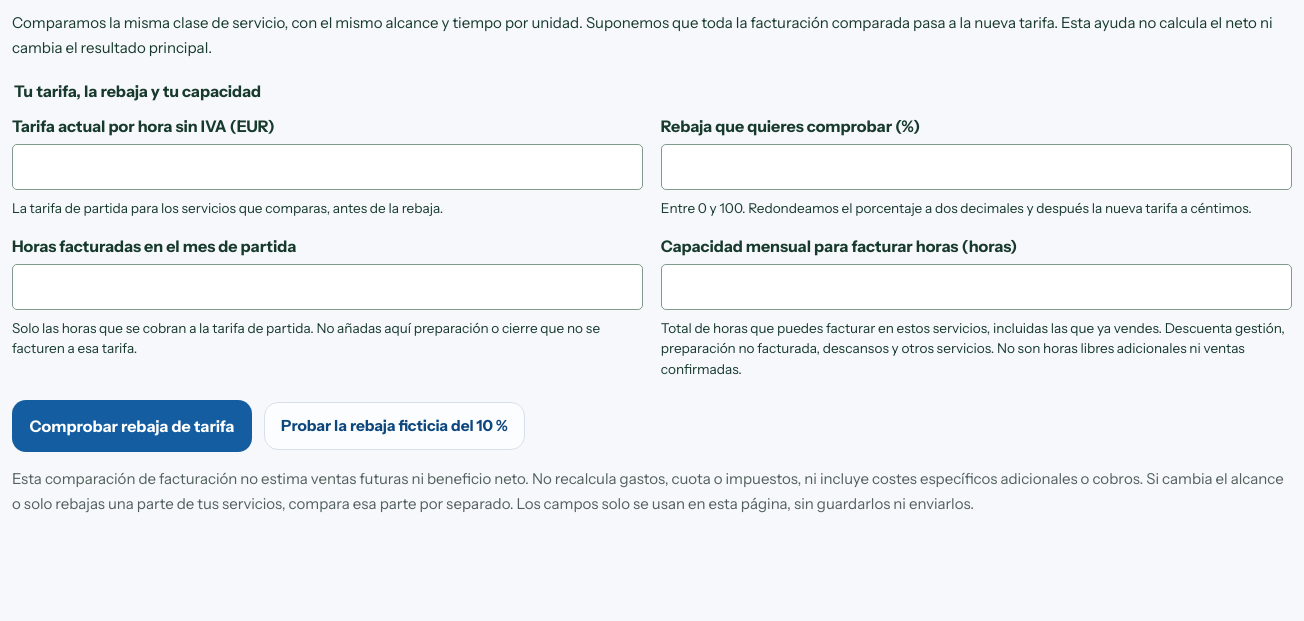
Test: rate discount planner › starts empty outside a form, validates every field and focuses the first error
Expected: the number of fields is 4, [12, 144, 643, 190]; [661, 144, 1292, 190]; [12, 264, 643, 310]; [661, 264, 1292, 310]
Expected: the 1st field is empty, [12, 144, 643, 190]
Click the button "Comprobar rebaja de tarifa" at (132, 426), box [12, 400, 252, 452]
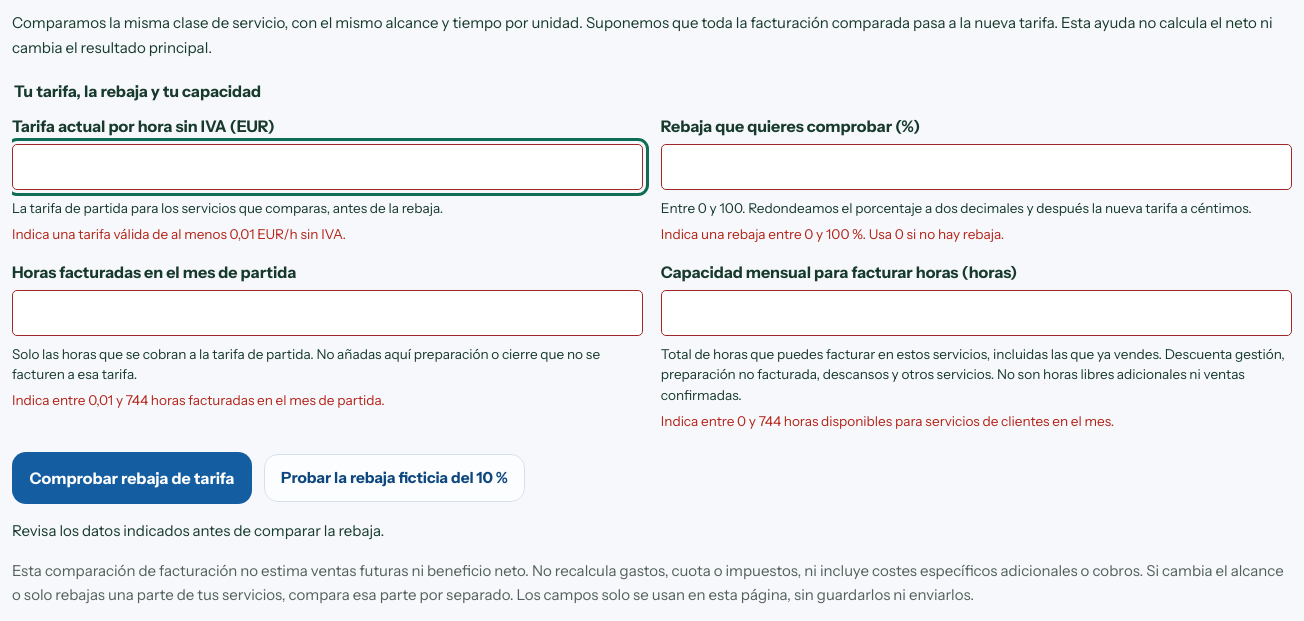
Expected: the message named "Rebaja de tarifa y capacidad" does not show "2880,00", [12, 521, 384, 540]
Expected: the message named "Rebaja de tarifa y capacidad" shows "Revisa los datos", [12, 521, 384, 540]
